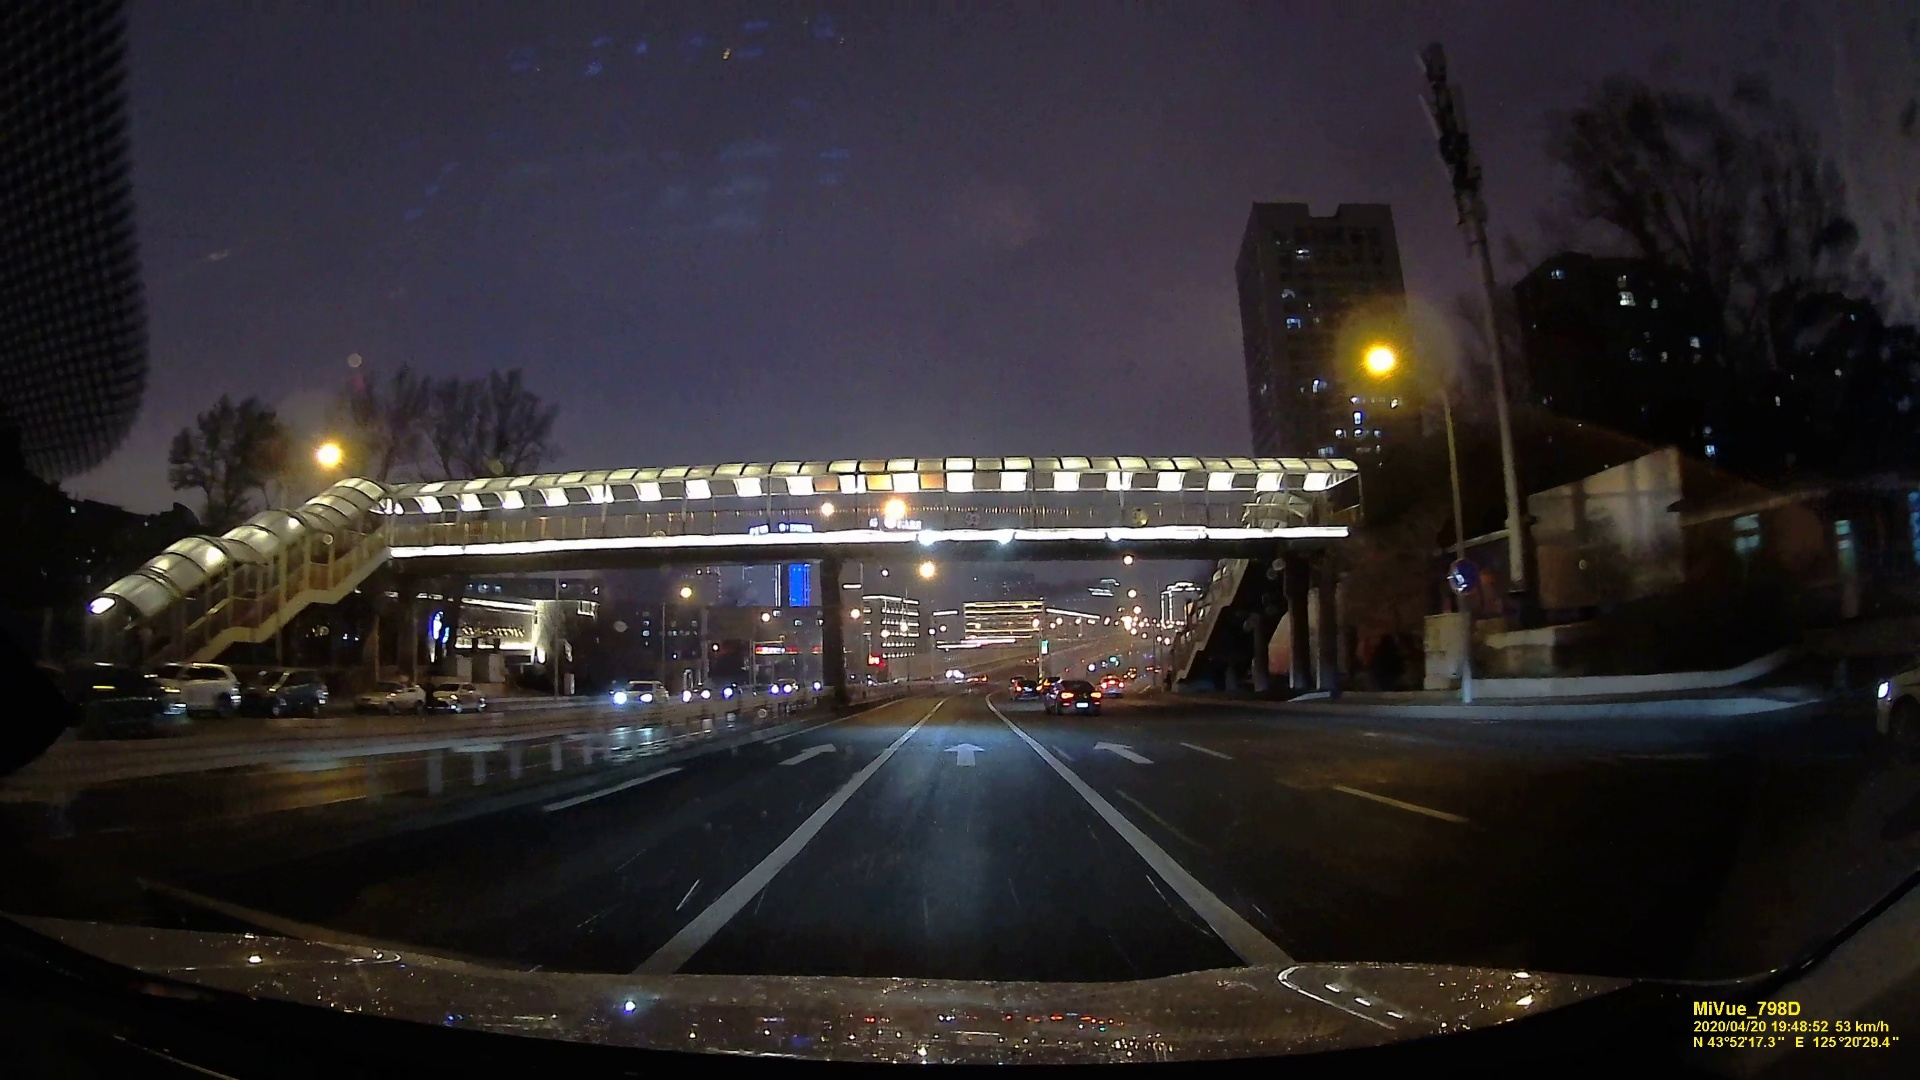person: (423, 674, 437, 710)
vehicle: (1046, 679, 1102, 715), (611, 680, 670, 712), (1006, 677, 1040, 703)
